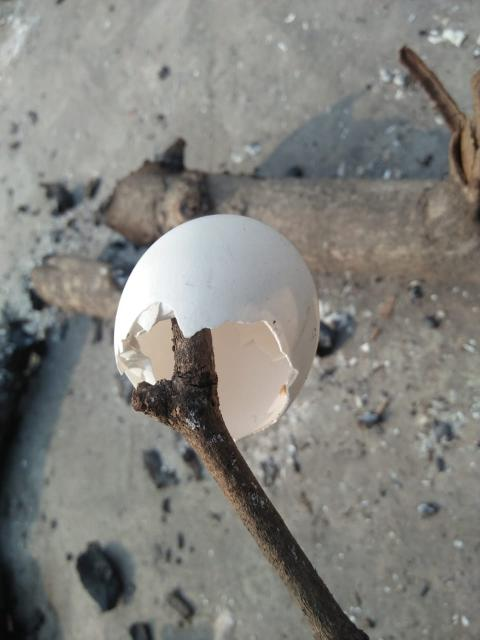Roto: (112, 213, 321, 442)
